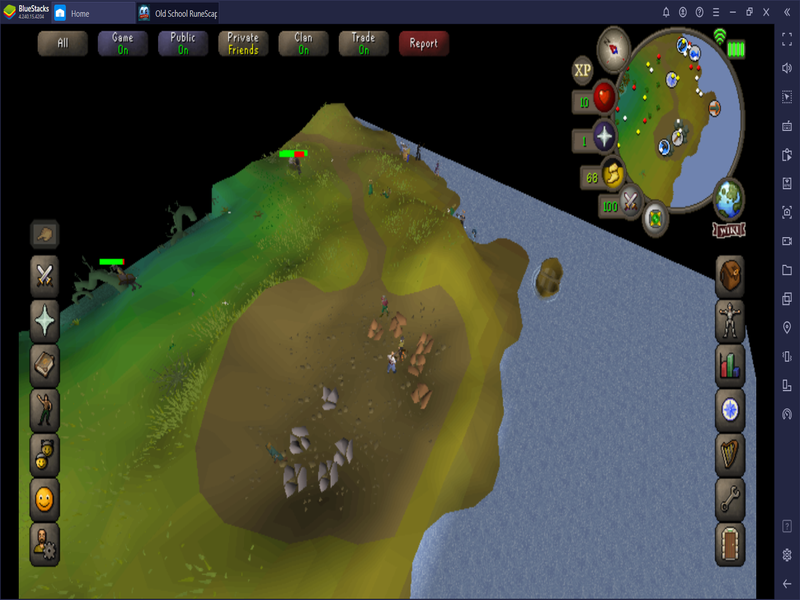copper_rock_1: (367, 317, 384, 343)
copper_rock_2: (388, 311, 409, 340)
